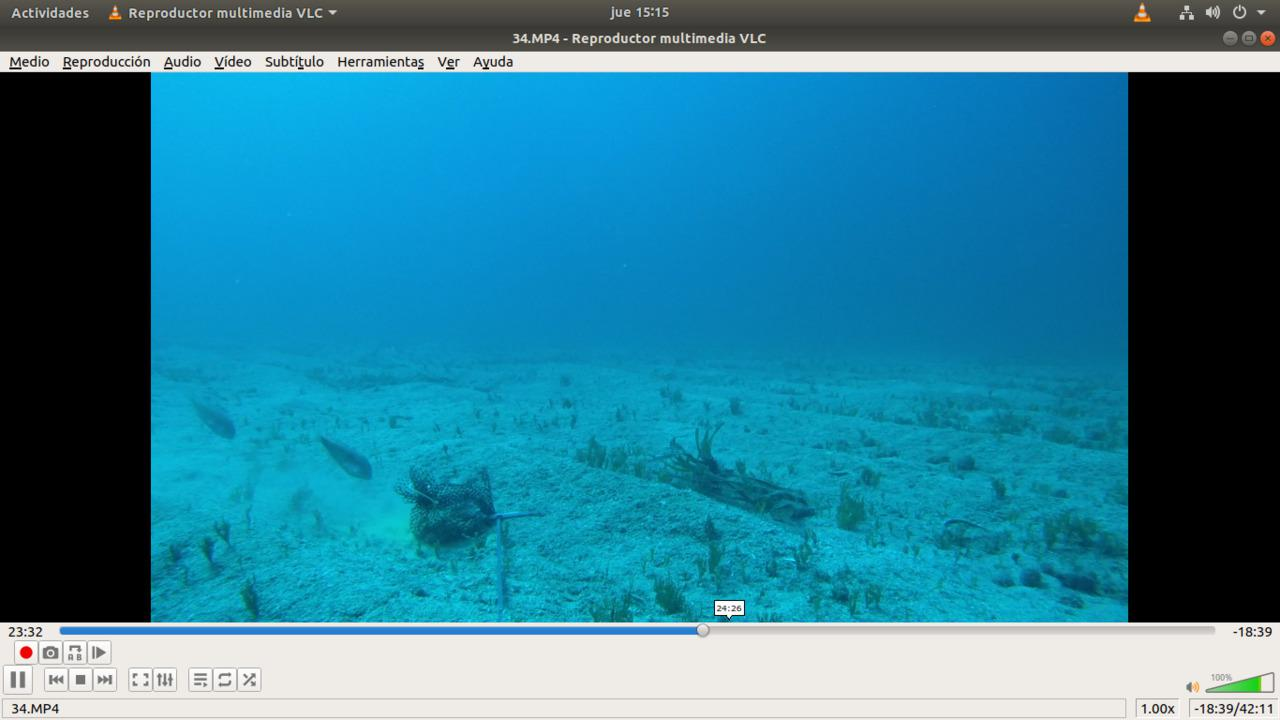raor: (312, 426, 382, 491), (180, 392, 241, 448)
